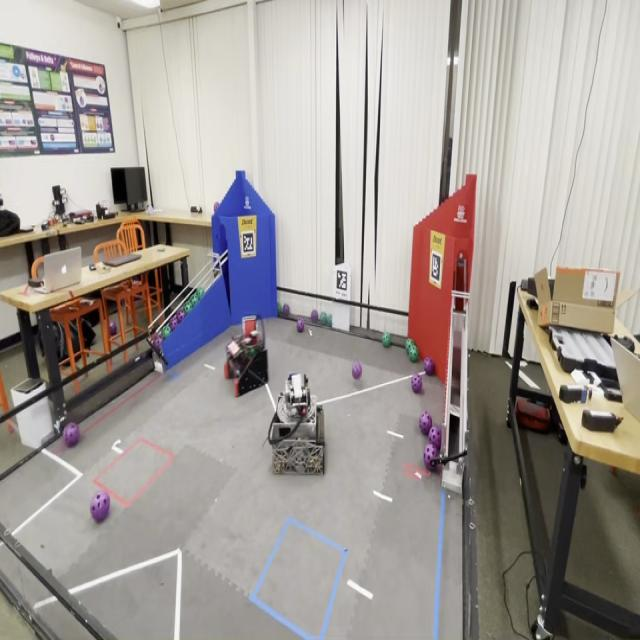artifact_green: (419, 412, 432, 436), (152, 332, 163, 351), (408, 344, 419, 362), (169, 315, 179, 331), (161, 324, 171, 339), (382, 332, 391, 347), (319, 311, 328, 325), (189, 294, 198, 308), (406, 338, 414, 353), (196, 287, 205, 300), (109, 322, 117, 336), (184, 300, 192, 314), (297, 318, 304, 333), (310, 310, 318, 323), (282, 304, 290, 317), (178, 309, 185, 322), (327, 315, 332, 327), (250, 348, 257, 356), (278, 304, 281, 314)
artifact_purple: (90, 492, 109, 522), (424, 444, 439, 470), (64, 424, 79, 447), (428, 425, 441, 450), (419, 412, 432, 434), (412, 374, 422, 393), (152, 334, 163, 351), (424, 357, 434, 375), (352, 361, 362, 379), (170, 315, 179, 331), (177, 309, 186, 322), (109, 322, 117, 336), (296, 318, 304, 331), (311, 310, 319, 323), (282, 304, 289, 316), (214, 202, 219, 212)
